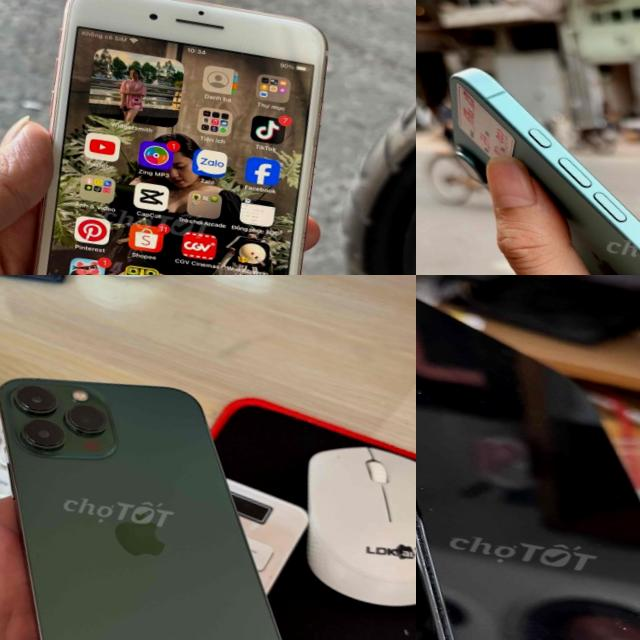gen_12_13: (0, 350, 366, 640)
gen_14: (416, 275, 640, 640)
gen_16: (449, 67, 640, 275)
gen_7_8: (0, 0, 359, 275)
